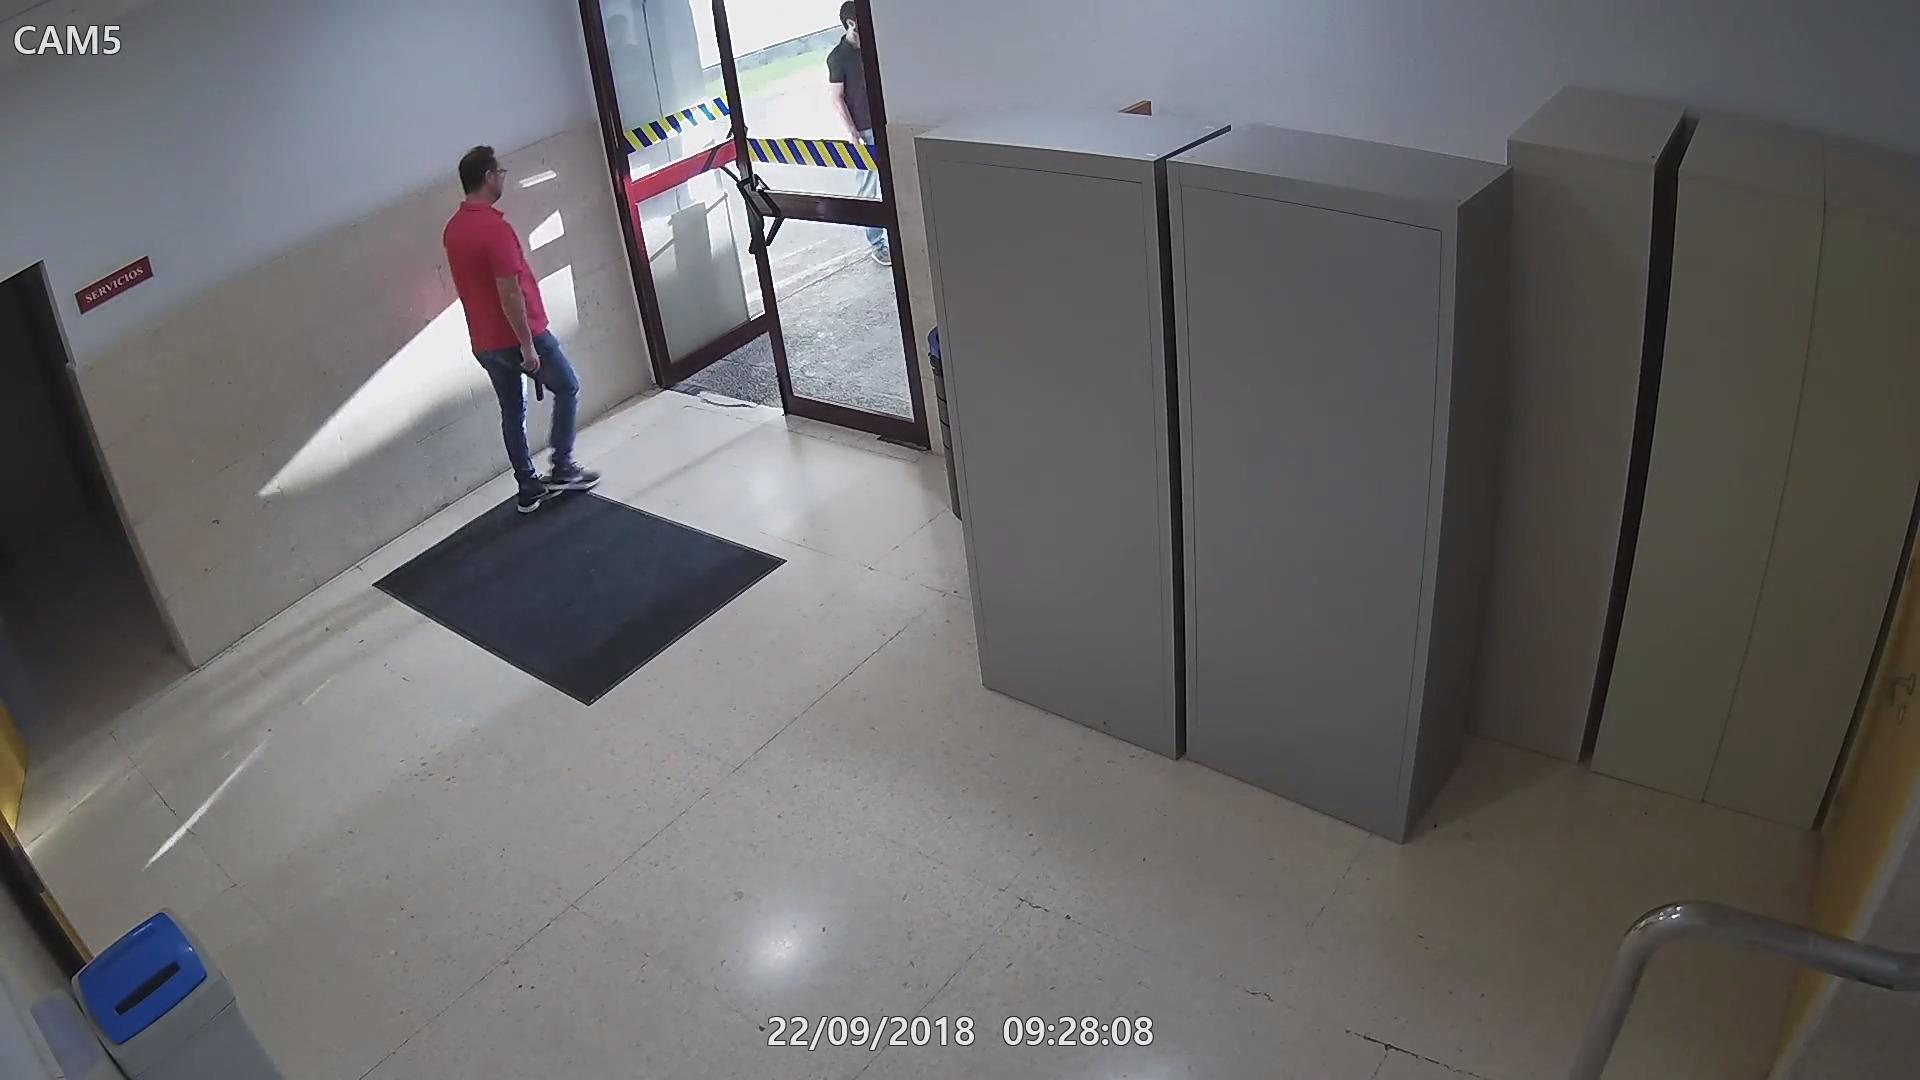Handgun: (514, 344, 545, 400)
